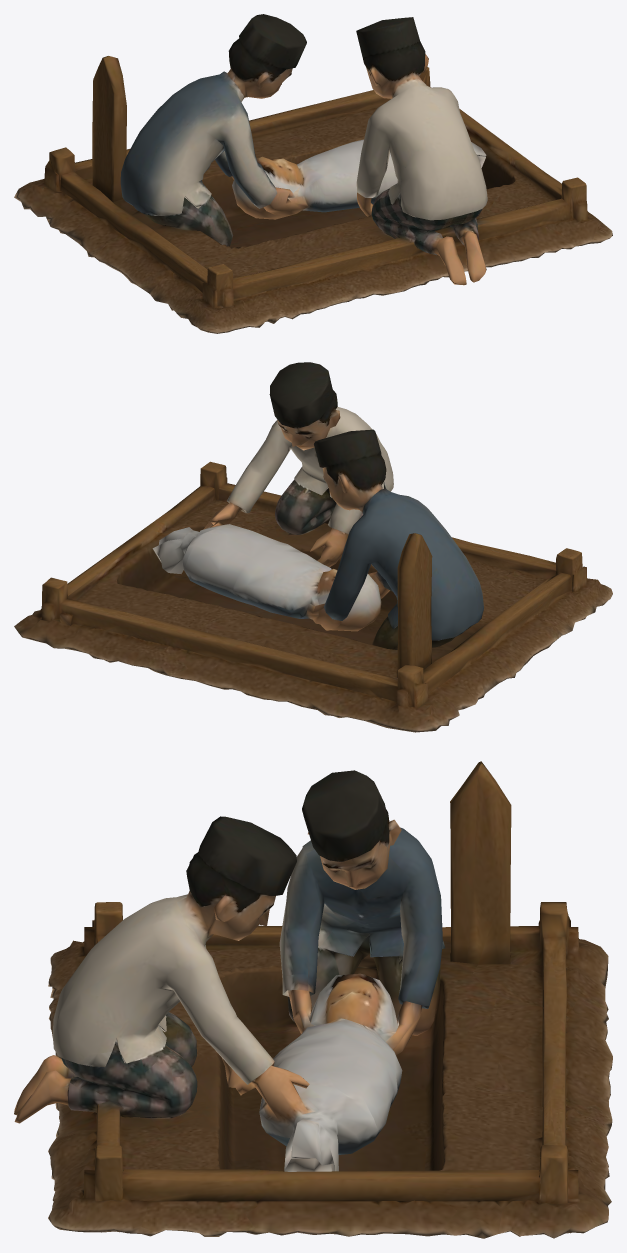
The model's file is Tausug4-512(10k).glb.
The picture shows the model from 3 angles, top to bottom: view 1: azimuth 30°, elevation 25°; view 2: azimuth 150°, elevation 25°; view 3: azimuth 270°, elevation 25°; orthographic projection. The views are drawn at different scales.
Visible parts, largest first — view 1: tripo_node_9e9d018d-1a08-4fb6-9404-a790e4d168f3; view 2: tripo_node_9e9d018d-1a08-4fb6-9404-a790e4d168f3; view 3: tripo_node_9e9d018d-1a08-4fb6-9404-a790e4d168f3.
Boxes of the visible parts, x1,y1,x2,y2 form: tripo_node_9e9d018d-1a08-4fb6-9404-a790e4d168f3: (14, 14, 612, 333); tripo_node_9e9d018d-1a08-4fb6-9404-a790e4d168f3: (14, 362, 612, 732); tripo_node_9e9d018d-1a08-4fb6-9404-a790e4d168f3: (14, 761, 612, 1238).
Size of the model in its own units: 0.9856 by 0.5021 by 0.8513.
Materials: 1 (1 with a texture image).
